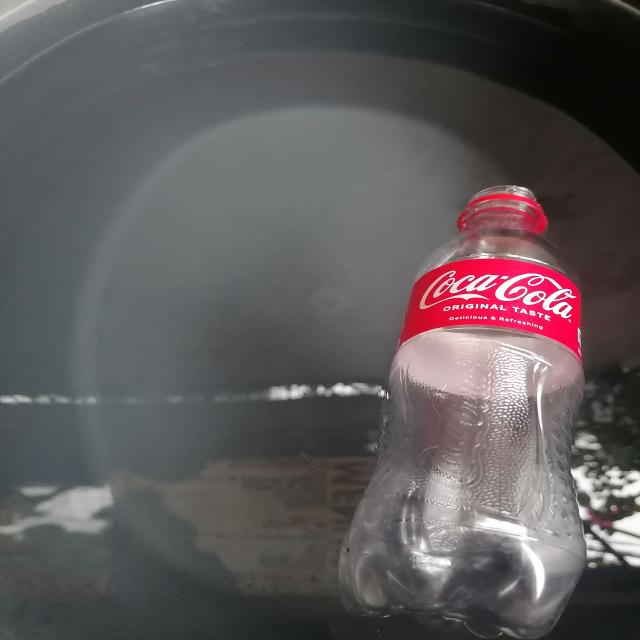Plastic Bottle: (339, 186, 586, 640)
